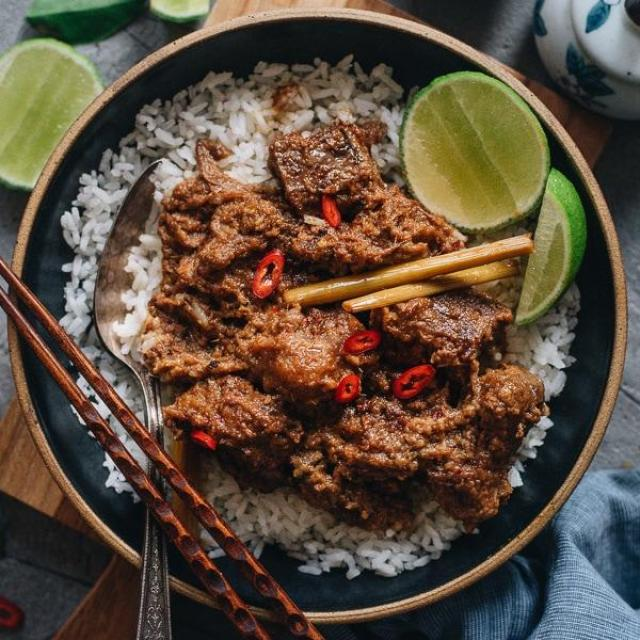Rendang: (128, 135, 548, 527)
